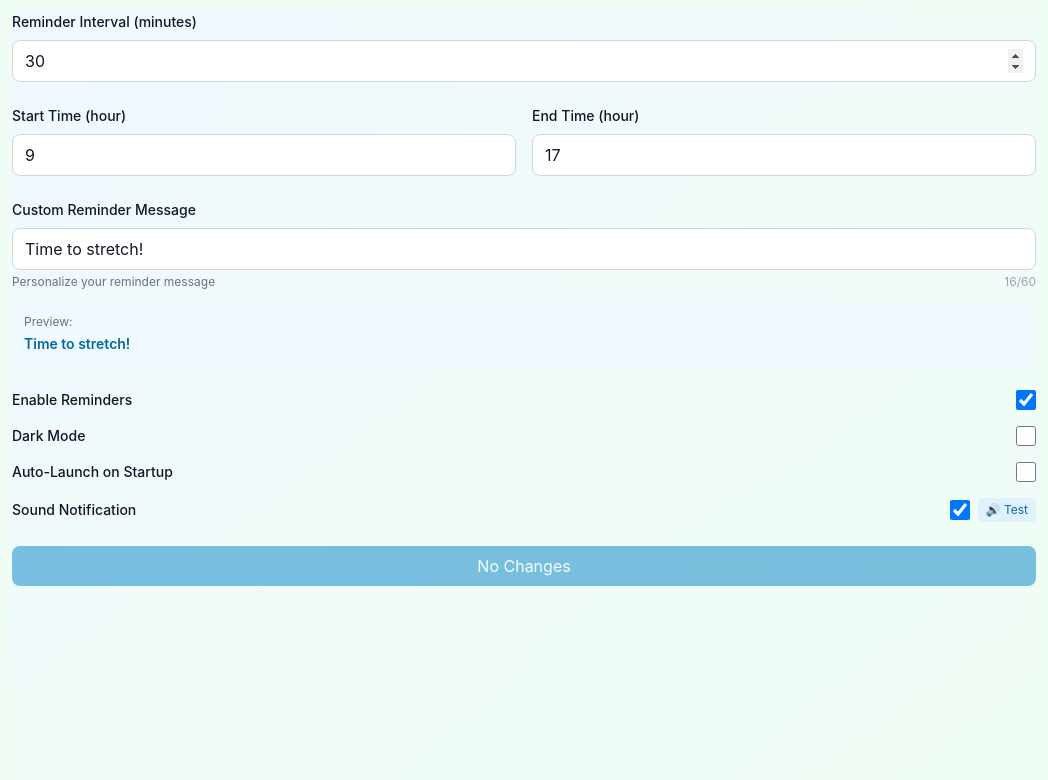
Scenario: SettingsForm › should update character counter when message is typed
The image size is (1048, 780).
Type "Hello World" into the field labelled "Custom Reminder Message" at (524, 249), box x1=12 y1=228 x2=1036 y2=270
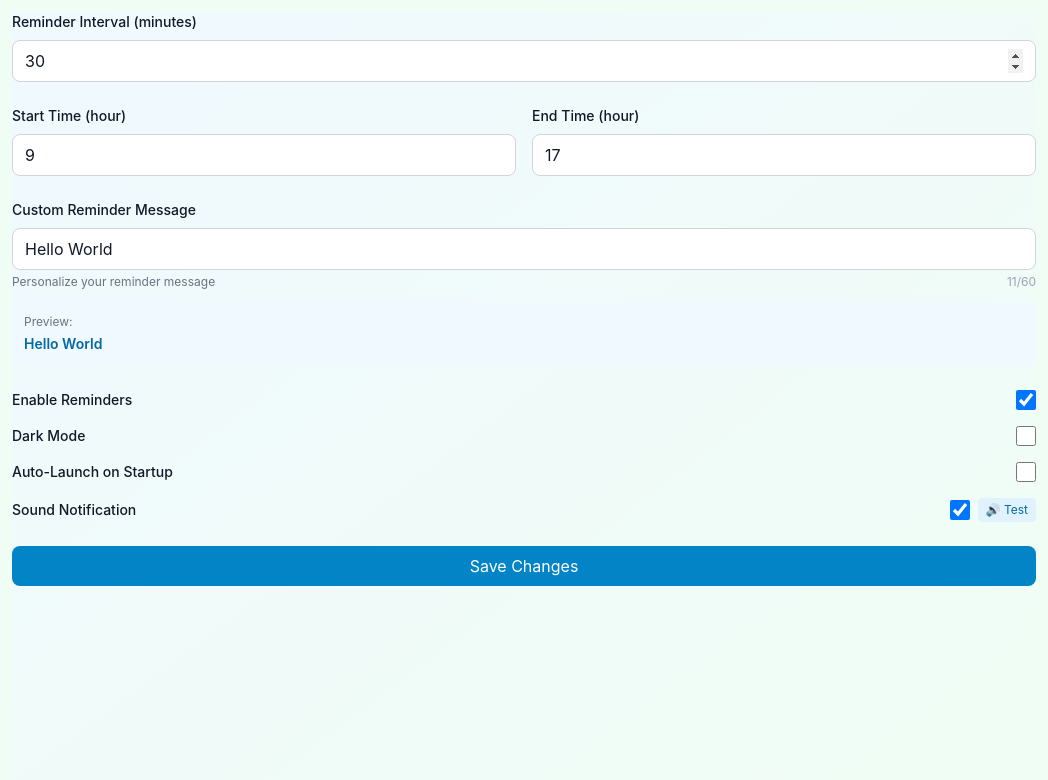
Expected: the text "11/60" is shown, x1=1007 y1=274 x2=1036 y2=290
